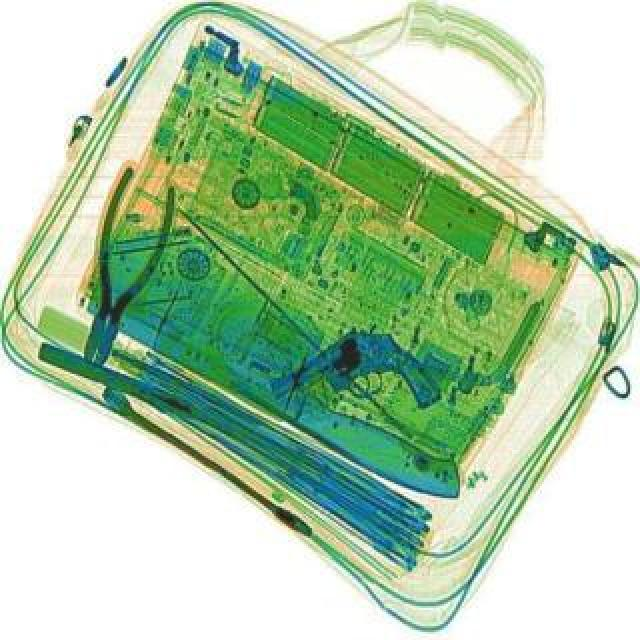gun: (262, 312, 446, 474)
knife: (66, 218, 510, 516)
wrench: (52, 168, 188, 376)
